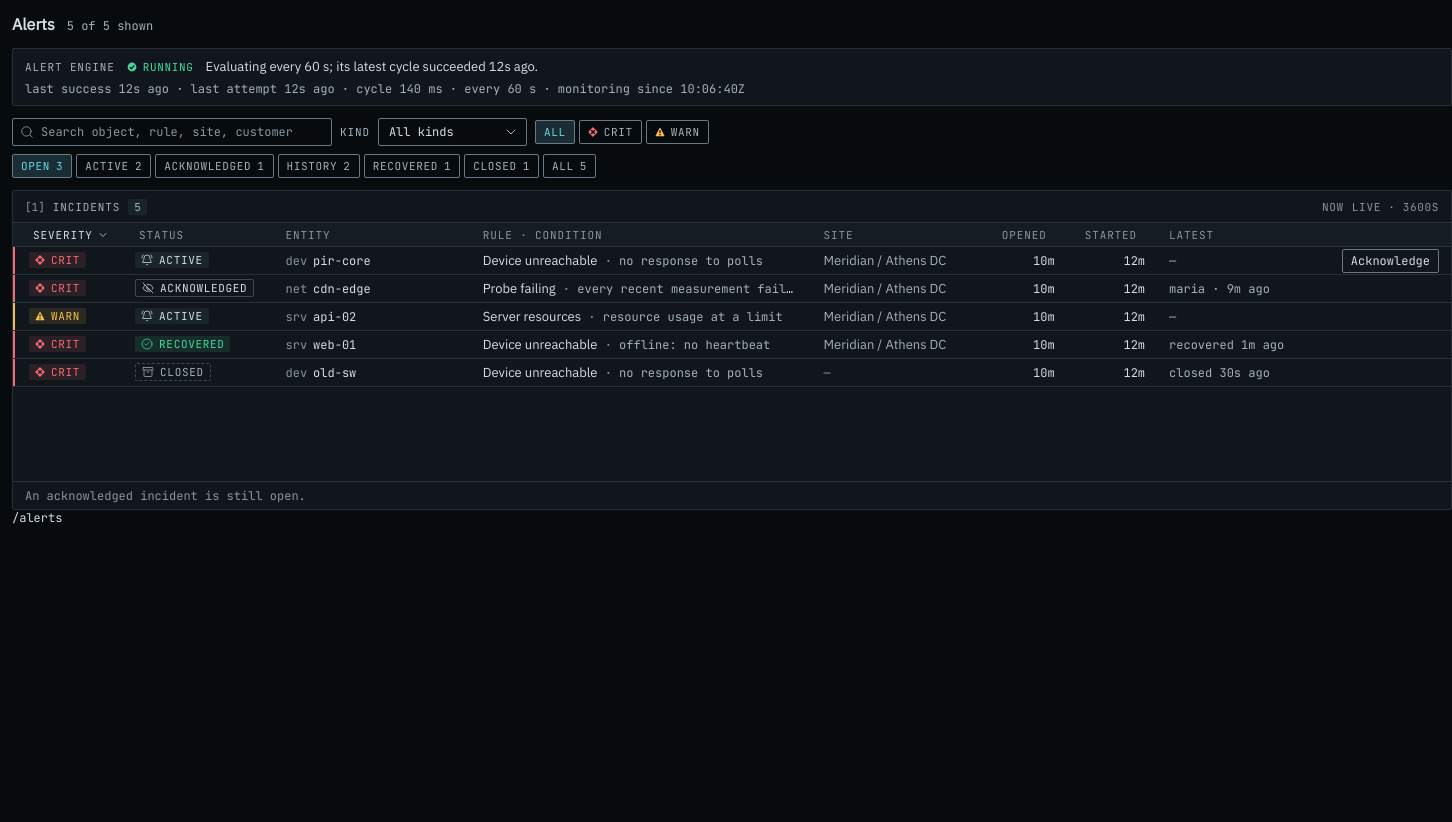
acknowledging › shows the button busy and refuses a second click while the write is out
Step 1. Click the button "Acknowledge" → click(1390, 260), box [1342,248,1439,272]
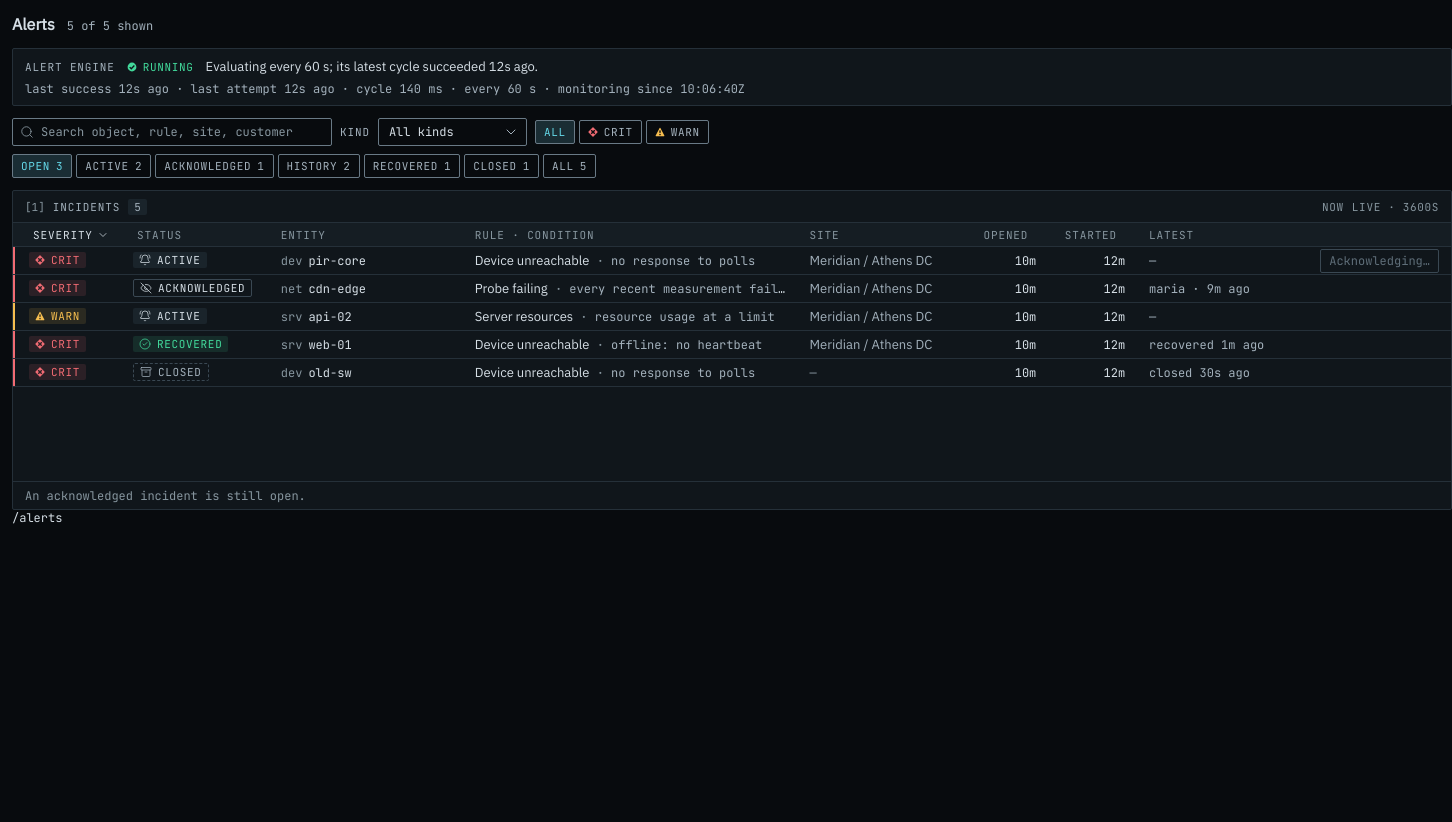
Expected: the button with aria-label "Acknowledge" is disabled
Expected: the button with aria-label "Acknowledge" reads "Acknowledging…"
Step 2. Click the button with aria-label "Acknowledge" → click(1380, 260), box [1320,248,1439,272]
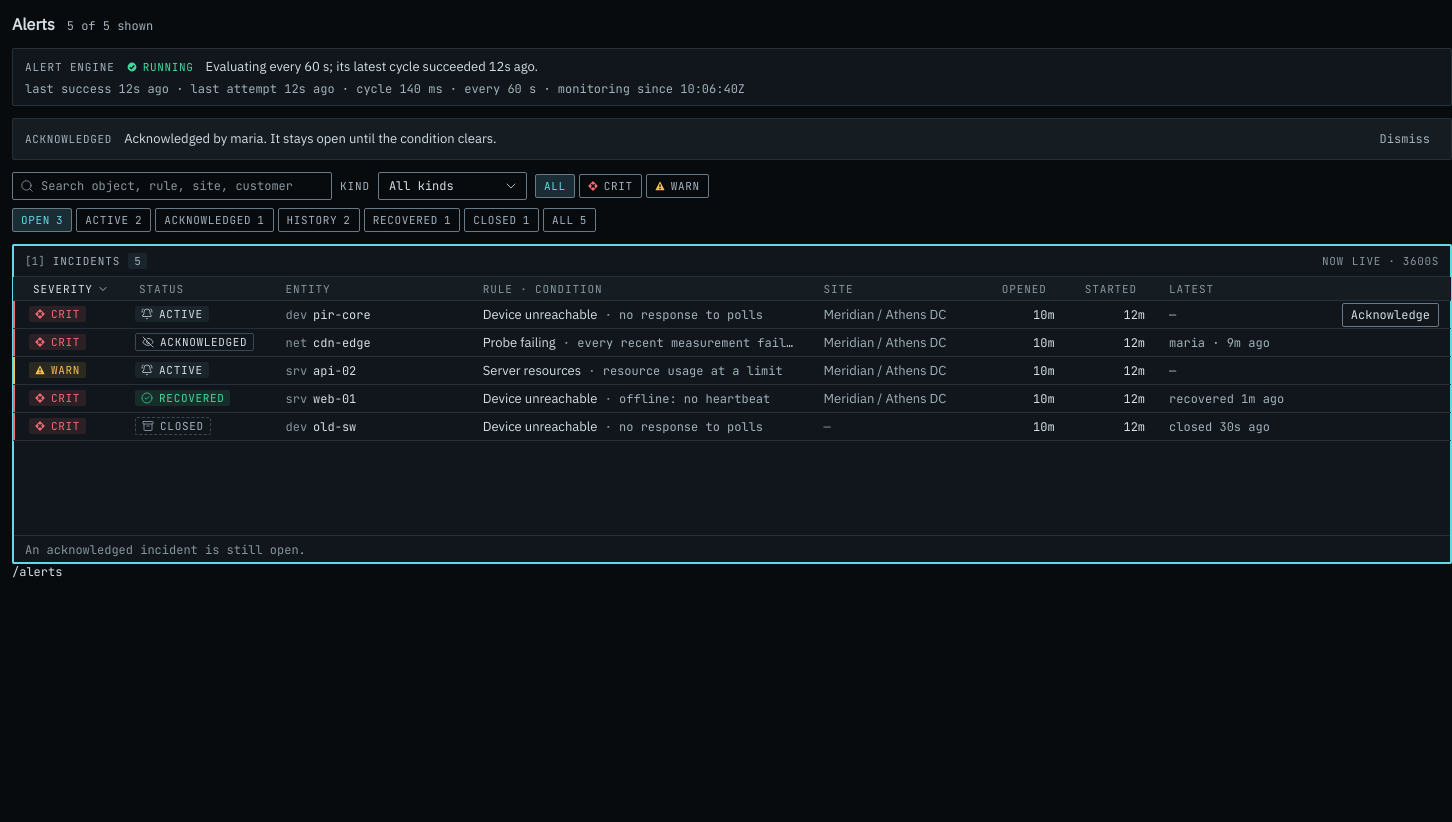
Expected: the message shows "ACKNOWLEDGED", [25,132,112,146]
